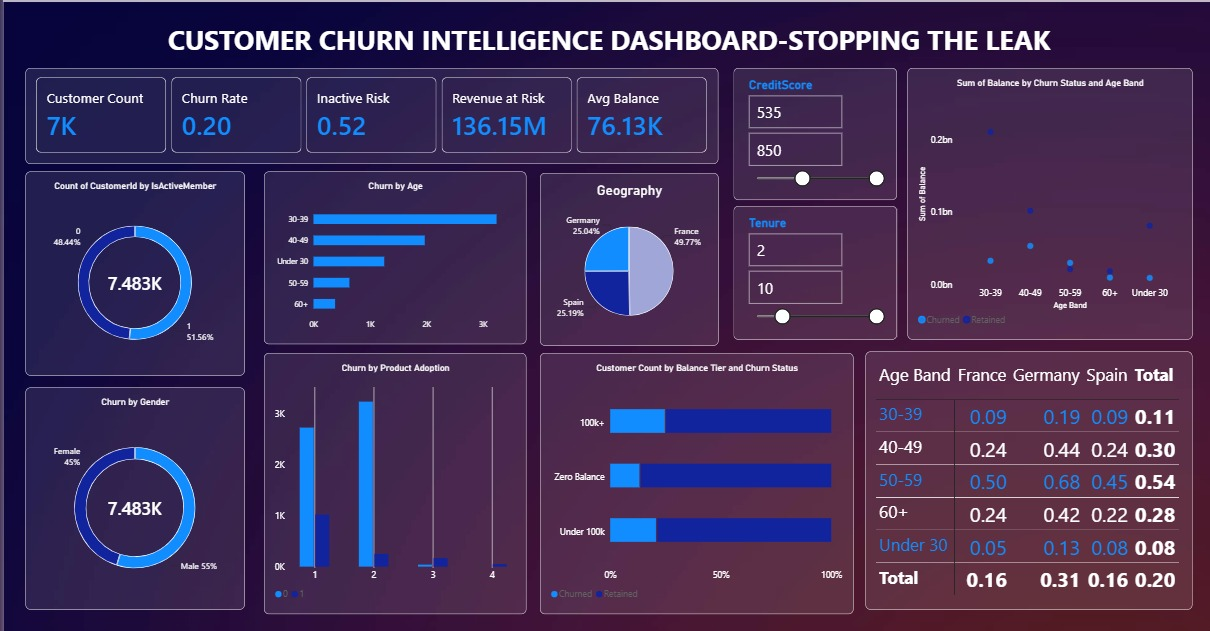

Layout of this report page (visuals, bound fields, positions):
{"tool":"powerbi","page":{"name":"Page 1","canvas":[1920,1080],"ordinal":0},"visuals":[{"type":"textbox","box":[35.8,64.4,1856.2,147.9],"z":0},{"type":"donutChart","title":"Churn by Gender","fields":{"Category":["Churn_Modelling.Gender"],"Y":["CountNonNull(Churn_Modelling.CustomerId)"]},"box":[35.8,646.6,348.3,353.1],"z":1000},{"type":"clusteredColumnChart","title":"Churn by Product Adoption","fields":{"Category":["Churn_Modelling.NumOfProducts"],"Series":["Churn_Modelling.Exited"],"Y":["CountNonNull(Churn_Modelling.CustomerId)"]},"box":[415.1,591.7,417.5,415.1],"z":2000},{"type":"clusteredBarChart","title":"Churn by Age ","fields":{"Category":["Churn_Modelling.Age Band"],"Y":["CountNonNull(Churn_Modelling.CustomerId)"]},"box":[415.1,303,417.5,274.4],"z":3000},{"type":"donutChart","fields":{"Category":["Churn_Modelling.IsActiveMember"],"Y":["CountNonNull(Churn_Modelling.CustomerId)"]},"box":[35.8,303,348.3,324.5],"z":4000},{"type":"cardVisual","fields":{"Data":["Churn_Modelling.Customer Count","Churn_Modelling.Churn Rate","Churn_Modelling.Inactive Risk","Churn_Modelling.Revenue at Risk","Churn_Modelling.Avg Balance"]},"box":[35.8,138.4,1102.3,152.7],"z":5000},{"type":"pivotTable","fields":{"Columns":["Churn_Modelling.Geography"],"Rows":["Churn_Modelling.Age Band"],"Values":["Churn_Modelling.Churn Rate"]},"box":[1371.9,589.3,520.1,410.4],"z":6000},{"type":"hundredPercentStackedBarChart","fields":{"Category":["Churn_Modelling.Balance Tier"],"Series":["Churn_Modelling.Churn Status"],"Y":["Churn_Modelling.Customer Count"]},"box":[854.2,591.7,498.7,415.1],"z":7000},{"type":"scatterChart","fields":{"Series":["Churn_Modelling.Churn Status"],"X":["Churn_Modelling.Age Band"],"Y":["Sum(Churn_Modelling.Balance)"]},"box":[1438.7,138.4,453.3,431.9],"z":8000},{"type":"slicer","fields":{"Values":["Churn_Modelling.CreditScore"]},"box":[1161.9,138.4,260.1,210],"z":9000},{"type":"slicer","fields":{"Values":["Churn_Modelling.Tenure"]},"box":[1161.9,357.9,260.1,212.3],"z":10000},{"type":"pieChart","title":"Geography","fields":{"Category":["Churn_Modelling.Geography"],"Y":["CountNonNull(Churn_Modelling.Geography)"]},"box":[854.2,305.4,283.9,274.4],"z":11000}]}

Visuals, with their boxes on the page's 1920x1080 design canvas (x1, y1, x2, y2). These are canvas units, not pixel positions in the 1210x631 screenshot, which may show the page scaled, cropped or inside an application window:
textbox: detection(36, 64, 1892, 212)
"Churn by Gender" donutChart: detection(36, 647, 384, 1000)
"Churn by Product Adoption" clusteredColumnChart: detection(415, 592, 833, 1007)
"Churn by Age " clusteredBarChart: detection(415, 303, 833, 577)
donutChart - Churn_Modelling.IsActiveMember x CountNonNull(Churn_Modelling.CustomerId): detection(36, 303, 384, 628)
cardVisual - Churn_Modelling.Customer Count x Churn_Modelling.Churn Rate: detection(36, 138, 1138, 291)
pivotTable - Churn_Modelling.Geography x Churn_Modelling.Age Band: detection(1372, 589, 1892, 1000)
hundredPercentStackedBarChart - Churn_Modelling.Balance Tier x Churn_Modelling.Churn Status: detection(854, 592, 1353, 1007)
scatterChart - Churn_Modelling.Churn Status x Churn_Modelling.Age Band: detection(1439, 138, 1892, 570)
slicer - Churn_Modelling.CreditScore: detection(1162, 138, 1422, 348)
slicer - Churn_Modelling.Tenure: detection(1162, 358, 1422, 570)
"Geography" pieChart: detection(854, 305, 1138, 580)
